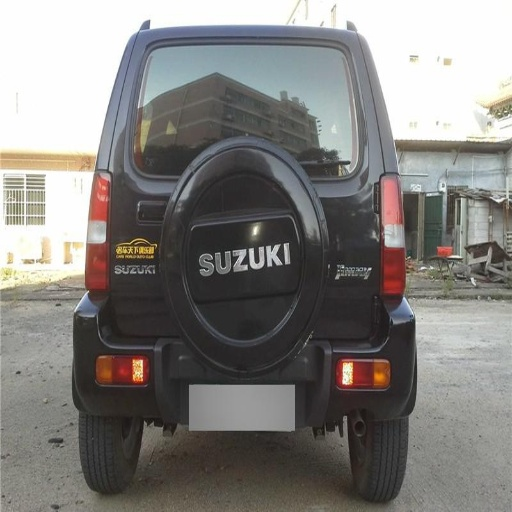back_left_door: (238, 142, 294, 235)
trunk: (112, 175, 264, 316), (164, 97, 221, 165), (304, 254, 376, 296)
